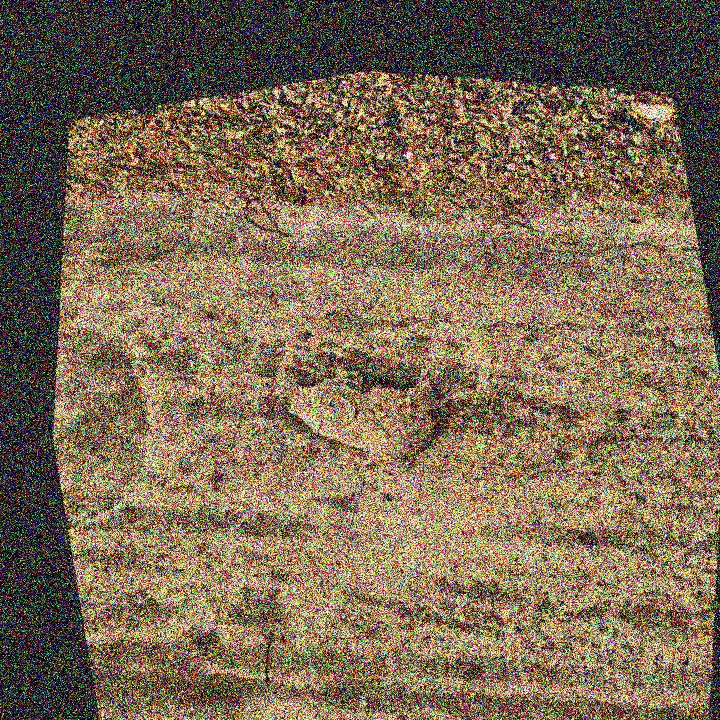pothole: (264, 329, 464, 488)
